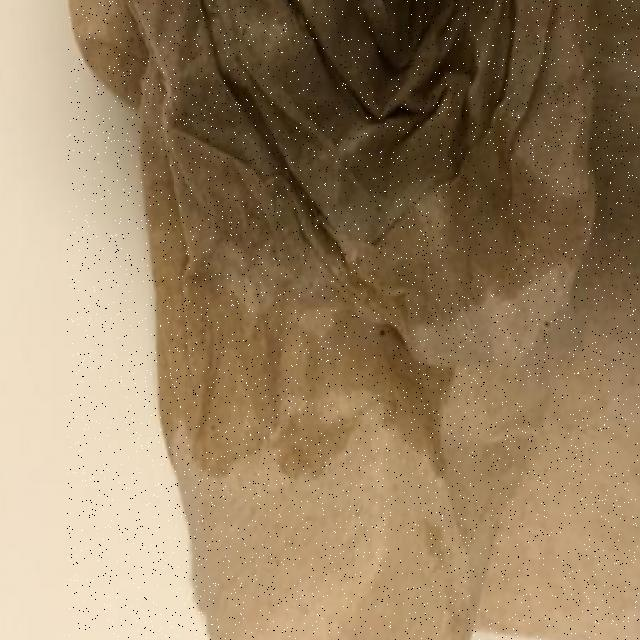paper: (67, 0, 640, 640)
